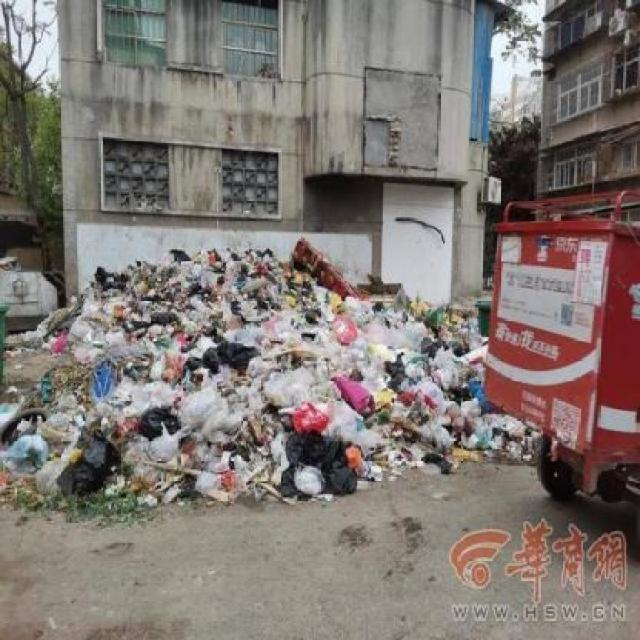garbage: (88, 243, 349, 496), (13, 365, 480, 480), (342, 288, 470, 382)
